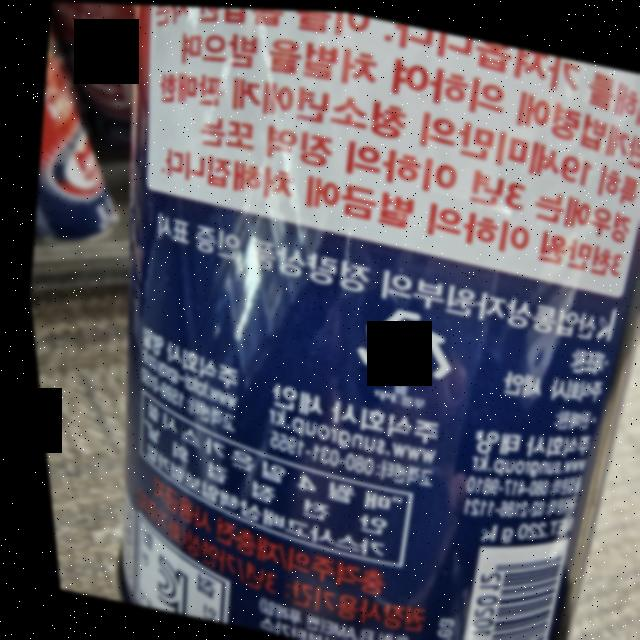Can: (338, 294, 458, 390)
